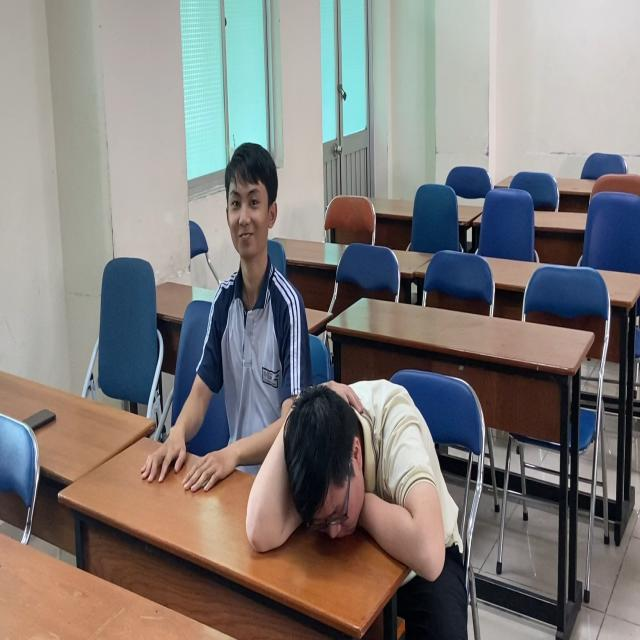sleep: (240, 370, 477, 600)
